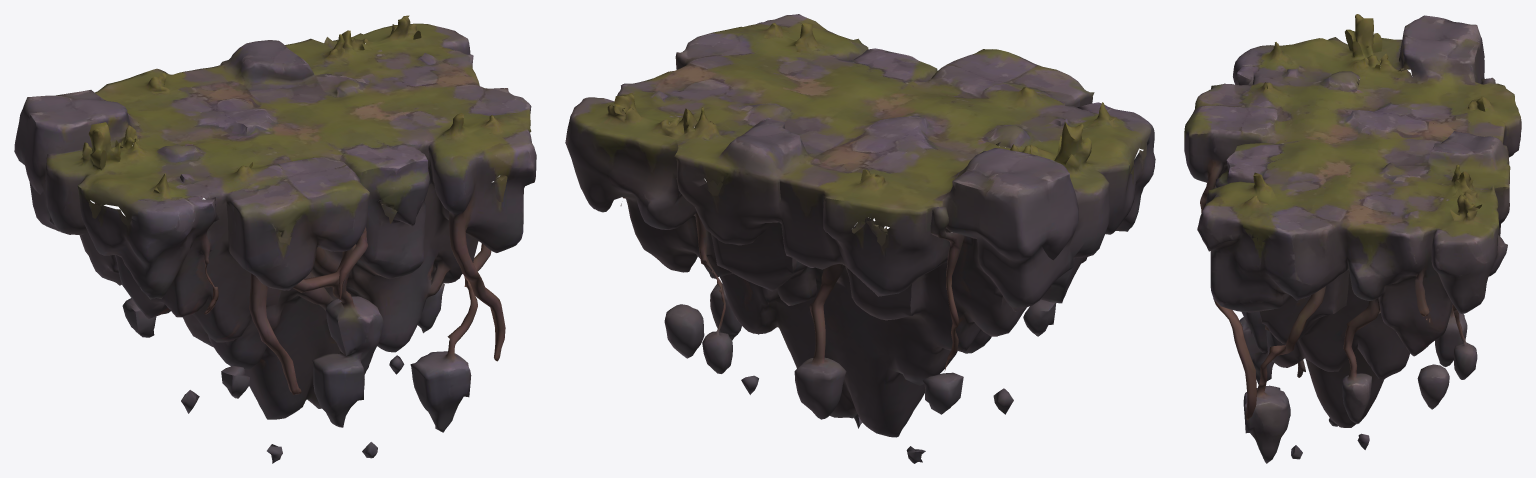
The model's file is floating_island_moss.glb.
The picture shows the model from 3 angles, left to right: view 1: azimuth 30°, elevation 25°; view 2: azimuth 150°, elevation 25°; view 3: azimuth 270°, elevation 25°; orthographic projection. The views are drawn at different scales.
Visible parts, largest first — view 1: tripo_node_79e83e7f; view 2: tripo_node_79e83e7f; view 3: tripo_node_79e83e7f.
Part boxes in pixels (box(x1,y1,x2,y2)): tripo_node_79e83e7f: box(14, 15, 536, 463); tripo_node_79e83e7f: box(565, 14, 1155, 463); tripo_node_79e83e7f: box(1184, 14, 1521, 463).
Size of the model in its own units: 99.47 by 77.02 by 69.52.
1 material, 1 textured.
